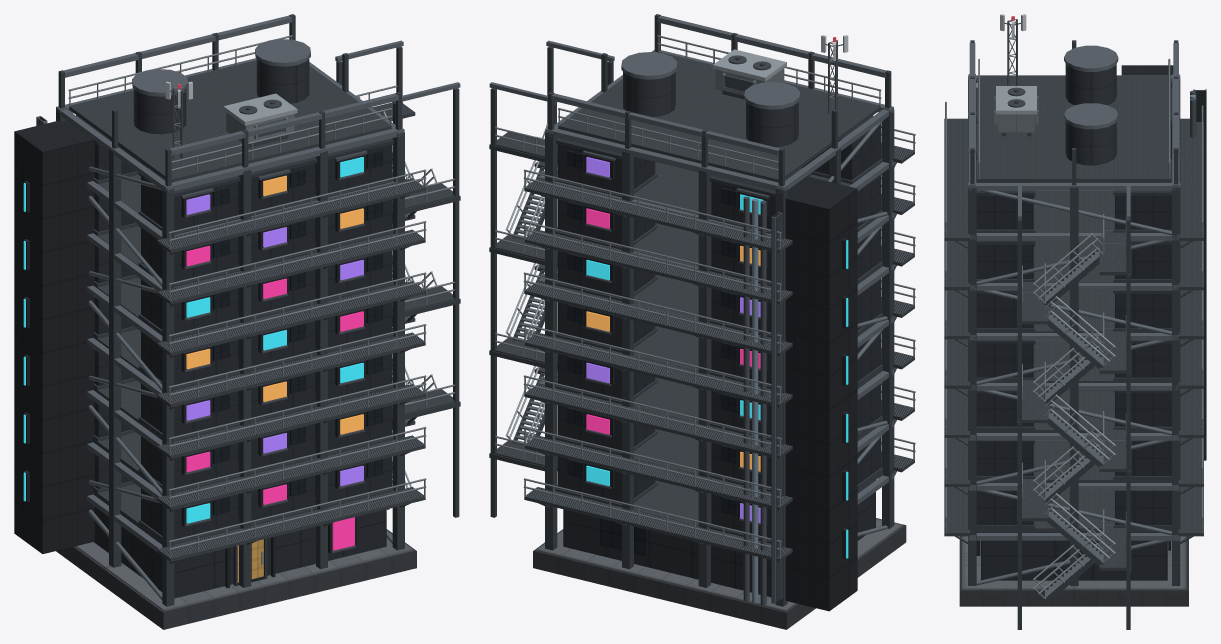
The model's file is civic-cyberpunk-capsule-homes-built.glb.
3 views of the same model, side by side, from view 1: azimuth 30°, elevation 25°; view 2: azimuth 150°, elevation 25°; view 3: azimuth 270°, elevation 25° (orthographic). The views are drawn at different scales.
Bounding box in the file's own units: 23.94 × 31.98 × 15.45.
Materials: 35 (19 with a texture image).
